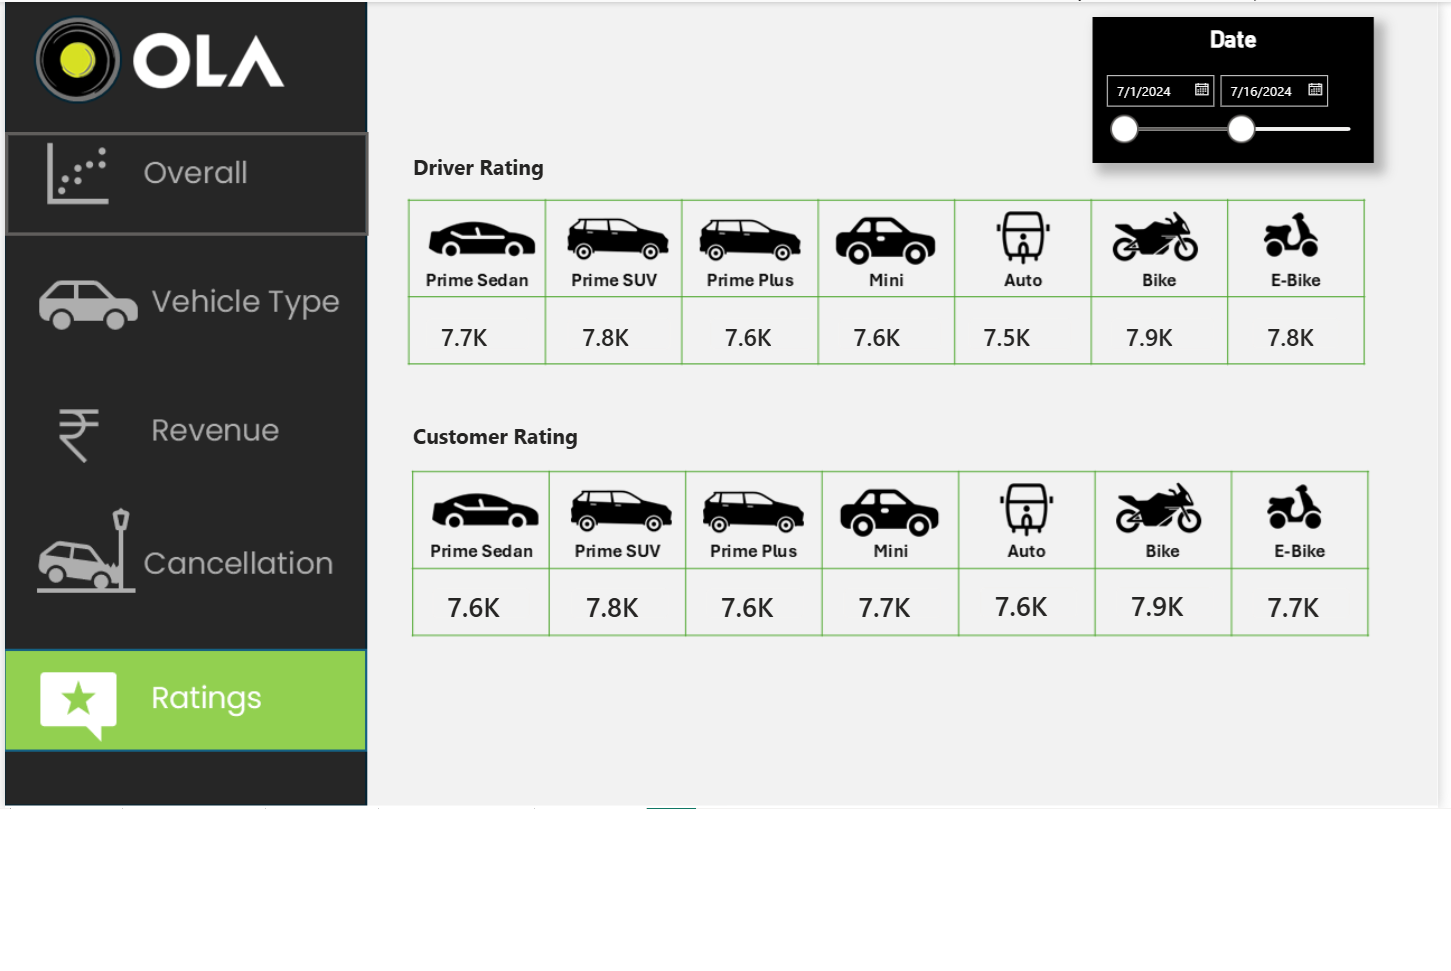

Layout of this report page (visuals, bound fields, positions):
{"tool":"powerbi","page":{"name":"RATINGS","canvas":[1280,720],"ordinal":4},"visuals":[{"type":"actionButton","box":[0,116.1,324.9,92.7],"z":0},{"type":"actionButton","box":[0,235.6,321.6,93.8],"z":1000},{"type":"actionButton","box":[0,335,321.6,93.8],"z":2000},{"type":"actionButton","box":[0,451.1,321.6,93.8],"z":3000},{"type":"actionButton","box":[0,580.2,321,85.2],"z":4000},{"type":"cardVisual","fields":{"Data":["Sum(July.Driver_Ratings)"]},"box":[360,266.2,126.2,62.5],"z":5000},{"type":"cardVisual","fields":{"Data":["Sum(July.Driver_Ratings)"]},"box":[486.2,266.2,126.2,62.5],"z":6000},{"type":"cardVisual","fields":{"Data":["Sum(July.Driver_Ratings)"]},"box":[612.5,266.2,126.2,62.5],"z":7000},{"type":"cardVisual","fields":{"Data":["Sum(July.Driver_Ratings)"]},"box":[727.5,266.2,126.2,62.5],"z":8000},{"type":"cardVisual","fields":{"Data":["Sum(July.Driver_Ratings)"]},"box":[844.4,265.6,126.7,62.2],"z":9000},{"type":"cardVisual","fields":{"Data":["Sum(July.Driver_Ratings)"]},"box":[971.2,266.2,126.2,62.5],"z":10000},{"type":"cardVisual","fields":{"Data":["Sum(July.Driver_Ratings)"]},"box":[1097.5,266.2,112.5,61.2],"z":11000},{"type":"textbox","box":[360,130,145,45],"z":12000},{"type":"textbox","box":[360,370,170,43.8],"z":13000},{"type":"cardVisual","fields":{"Data":["Sum(July.Customer_Rating)"]},"box":[365,506.4,121.4,61.4],"z":14000},{"type":"cardVisual","fields":{"Data":["Sum(July.Customer_Rating)"]},"box":[488.6,506.4,121.4,61.4],"z":15000},{"type":"cardVisual","fields":{"Data":["Sum(July.Customer_Rating)"]},"box":[610,506.4,121.4,61.4],"z":16000},{"type":"cardVisual","fields":{"Data":["Sum(July.Customer_Rating)"]},"box":[732.1,506.4,121.4,61.4],"z":17000},{"type":"cardVisual","fields":{"Data":["Sum(July.Customer_Rating)"]},"box":[853.8,506.2,121.4,61.4],"z":18000},{"type":"cardVisual","fields":{"Data":["Sum(July.Customer_Rating)"]},"box":[976.2,506.2,121.4,61.4],"z":19000},{"type":"cardVisual","fields":{"Data":["Sum(July.Customer_Rating)"]},"box":[1097.5,507.5,121.4,61.4],"z":20000},{"type":"slicer","title":"Date","fields":{"Values":["July.Date"]},"box":[971.4,12.9,251.4,130],"z":21000}]}

Visuals, with their boxes on the page's 1280x720 design canvas (x1, y1, x2, y2). These are canvas units, not pixel positions in the 1451x971 screenshot, which may show the page scaled, cropped or inside an application window:
actionButton: box(0, 116, 325, 209)
actionButton: box(0, 236, 322, 329)
actionButton: box(0, 335, 322, 429)
actionButton: box(0, 451, 322, 545)
actionButton: box(0, 580, 321, 665)
cardVisual - Sum(July.Driver_Ratings): box(360, 266, 486, 329)
cardVisual - Sum(July.Driver_Ratings): box(486, 266, 612, 329)
cardVisual - Sum(July.Driver_Ratings): box(612, 266, 739, 329)
cardVisual - Sum(July.Driver_Ratings): box(728, 266, 854, 329)
cardVisual - Sum(July.Driver_Ratings): box(844, 266, 971, 328)
cardVisual - Sum(July.Driver_Ratings): box(971, 266, 1097, 329)
cardVisual - Sum(July.Driver_Ratings): box(1098, 266, 1210, 327)
textbox: box(360, 130, 505, 175)
textbox: box(360, 370, 530, 414)
cardVisual - Sum(July.Customer_Rating): box(365, 506, 486, 568)
cardVisual - Sum(July.Customer_Rating): box(489, 506, 610, 568)
cardVisual - Sum(July.Customer_Rating): box(610, 506, 731, 568)
cardVisual - Sum(July.Customer_Rating): box(732, 506, 854, 568)
cardVisual - Sum(July.Customer_Rating): box(854, 506, 975, 568)
cardVisual - Sum(July.Customer_Rating): box(976, 506, 1098, 568)
cardVisual - Sum(July.Customer_Rating): box(1098, 508, 1219, 569)
"Date" slicer: box(971, 13, 1223, 143)
